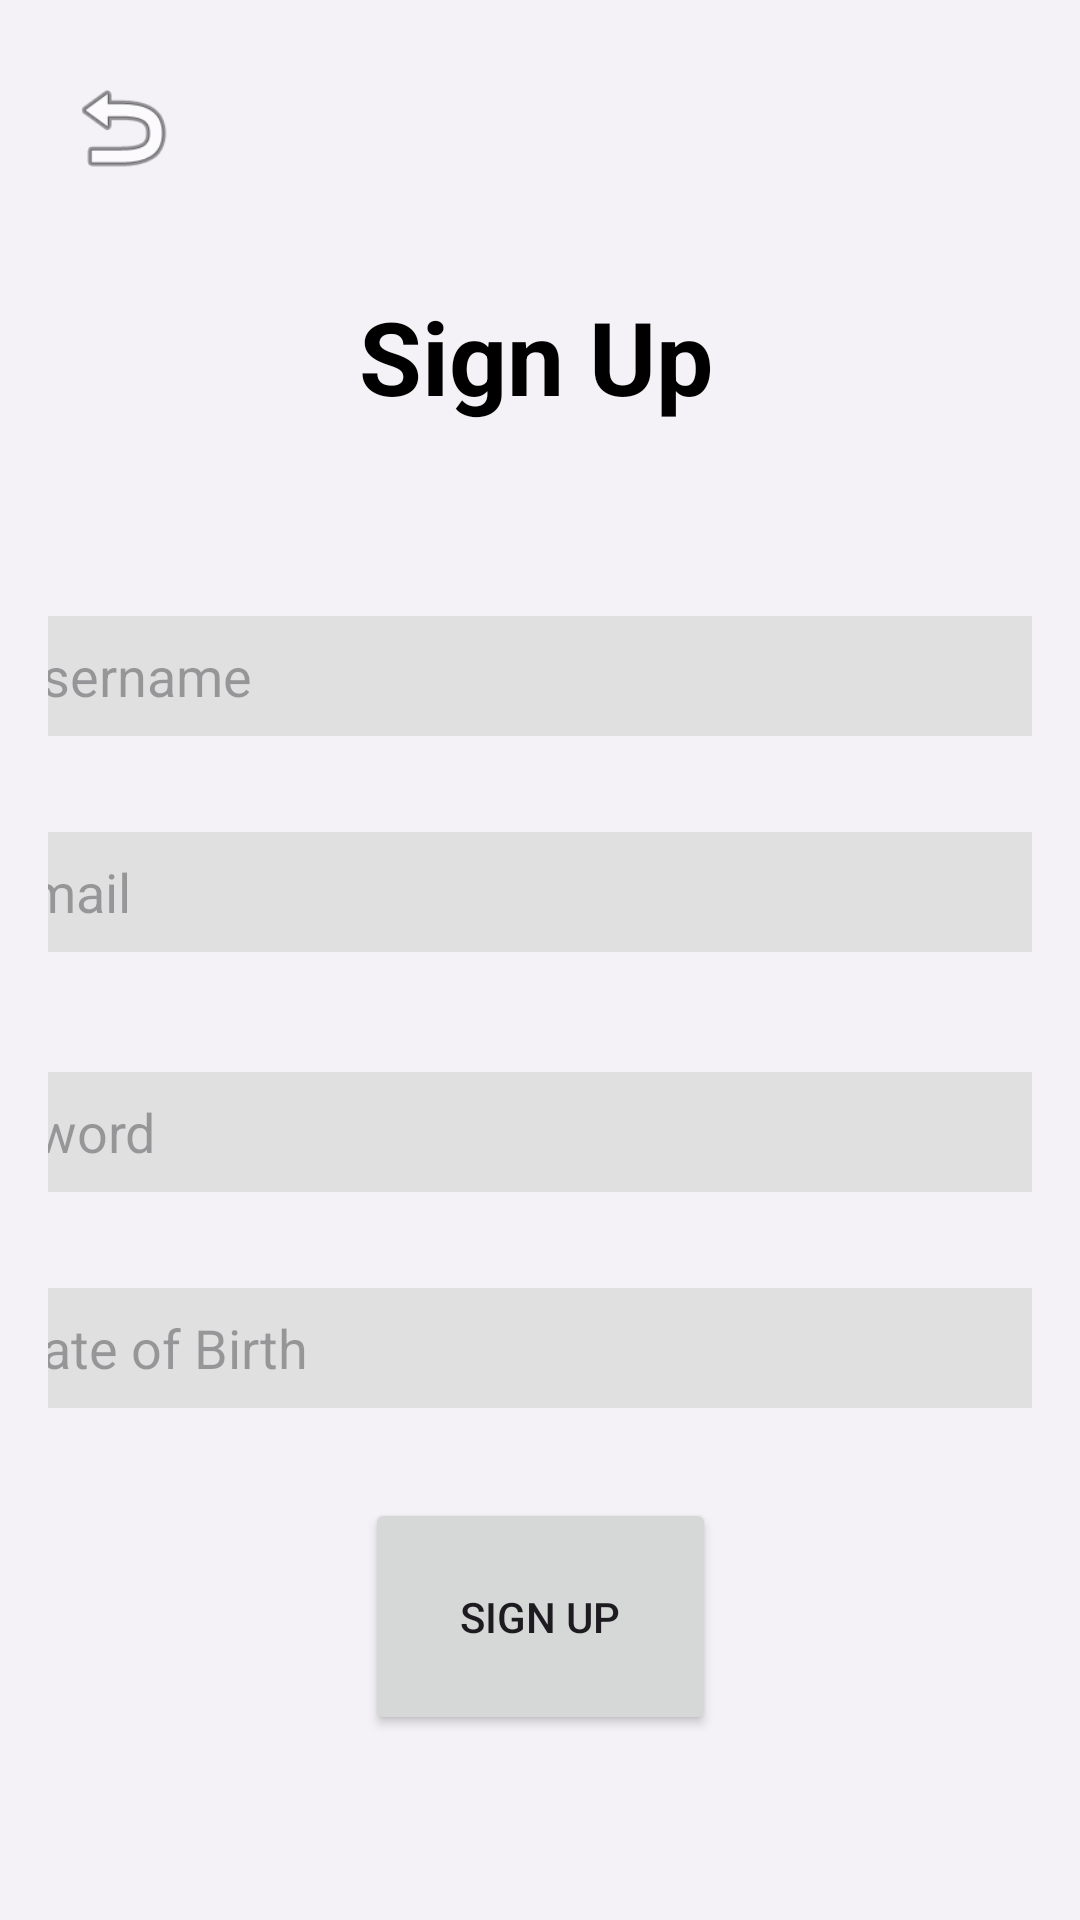

Where icons sit on this 1080 x 1920 app screen, as (x1, y1, x2, y2):
revert: (82, 90, 166, 167)
